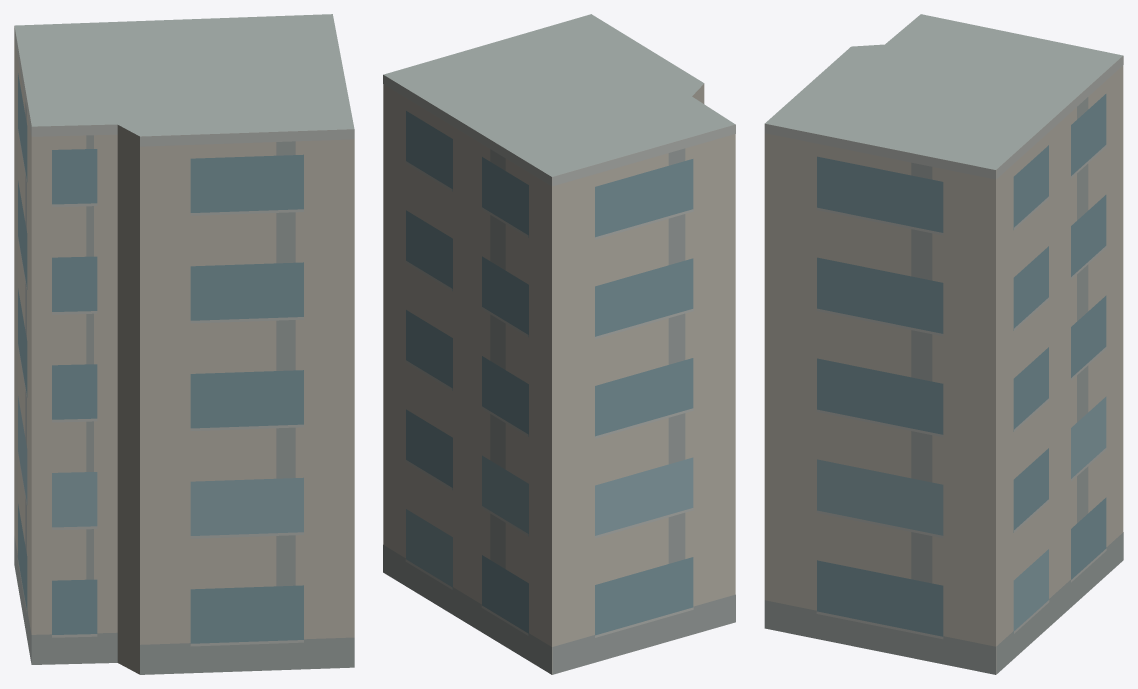
File: survey-upis-32726196.glb
3 renders of one model, left to right at view 1: azimuth 30°, elevation 25°; view 2: azimuth 150°, elevation 25°; view 3: azimuth 270°, elevation 25°, orthographic. The views are drawn at different scales.
Parts seen in each view (by area): view 1: survey-upis-32726196.tmp; view 2: survey-upis-32726196.tmp; view 3: survey-upis-32726196.tmp.
Part boxes in pixels (x1,y1,x2,y2): survey-upis-32726196.tmp: (14, 14, 354, 674); survey-upis-32726196.tmp: (383, 14, 735, 674); survey-upis-32726196.tmp: (764, 14, 1123, 674).
Size of the model in its own units: 8.56 by 12.9 by 8.32.
